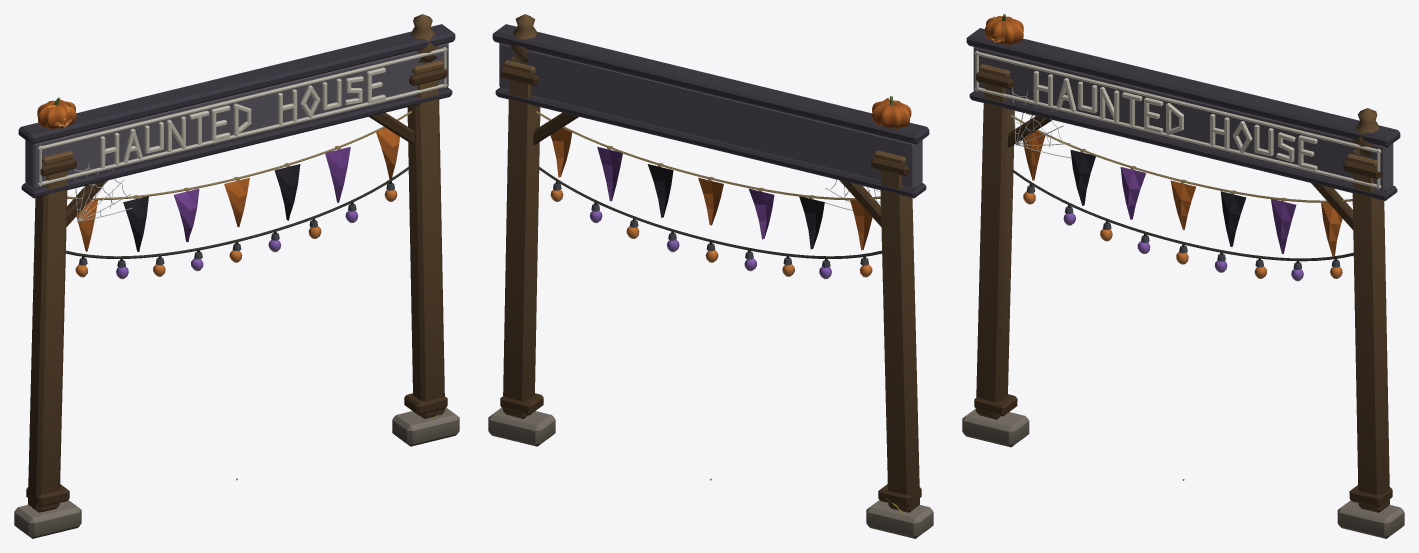
The model's file is banner_arch_01.glb.
3 renders of one model, left to right at view 1: azimuth 30°, elevation 25°; view 2: azimuth 150°, elevation 25°; view 3: azimuth 330°, elevation 25°, orthographic.
Visible parts, largest first — view 1: banner_arch_01; view 2: banner_arch_01; view 3: banner_arch_01.
Boxes of the visible parts, bbox=[...] form: banner_arch_01: bbox=[14, 14, 459, 538]; banner_arch_01: bbox=[488, 14, 933, 538]; banner_arch_01: bbox=[962, 14, 1404, 538].
Size of the model in its own units: 3.42 by 3.25 by 0.2599.
